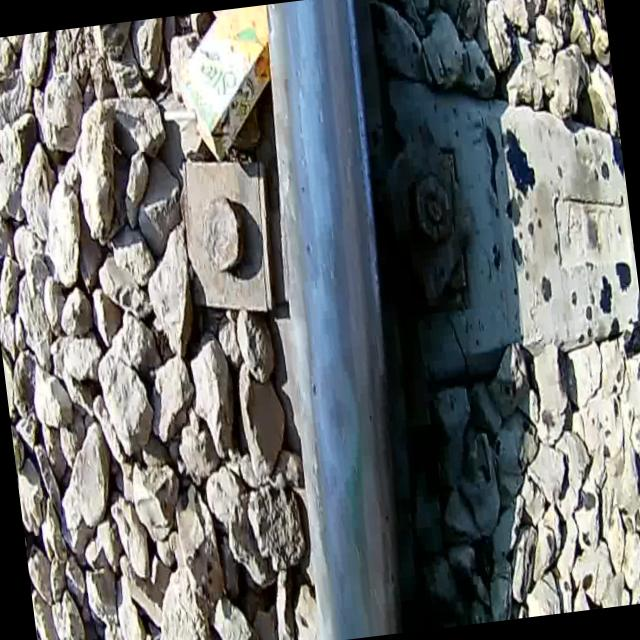Squats: (299, 0, 429, 635), (302, 348, 372, 483)
